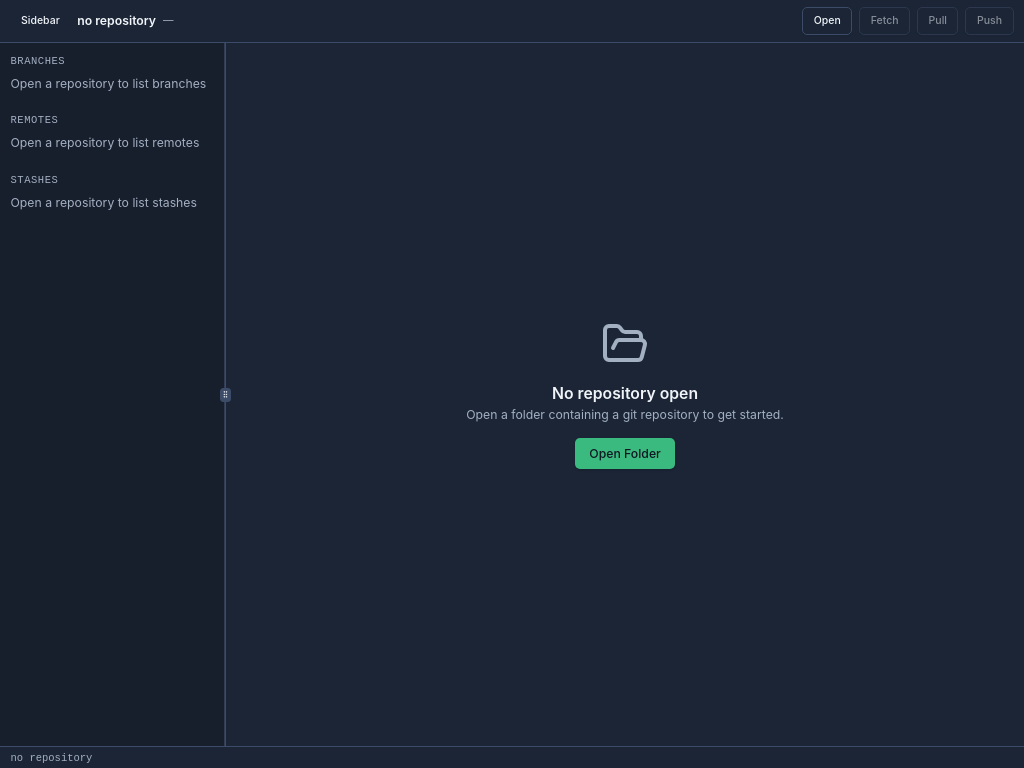
Test: App shell › surfaces binding transport errors without crashing
What coordinates should you click on to do the following:
click the button "Open Folder"
I would click on:
 (625, 454)
Its box is [575,438,675,469].
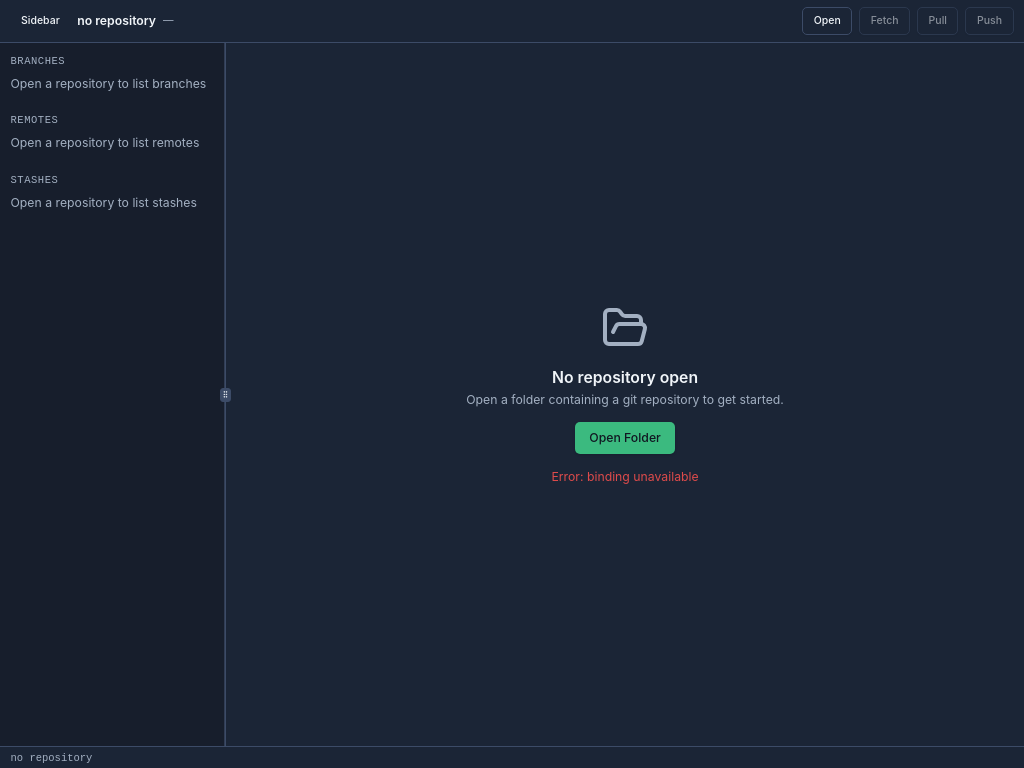
Check: the text with test id "open-error" reads "Error: binding unavailable", box [551,468,699,484]
